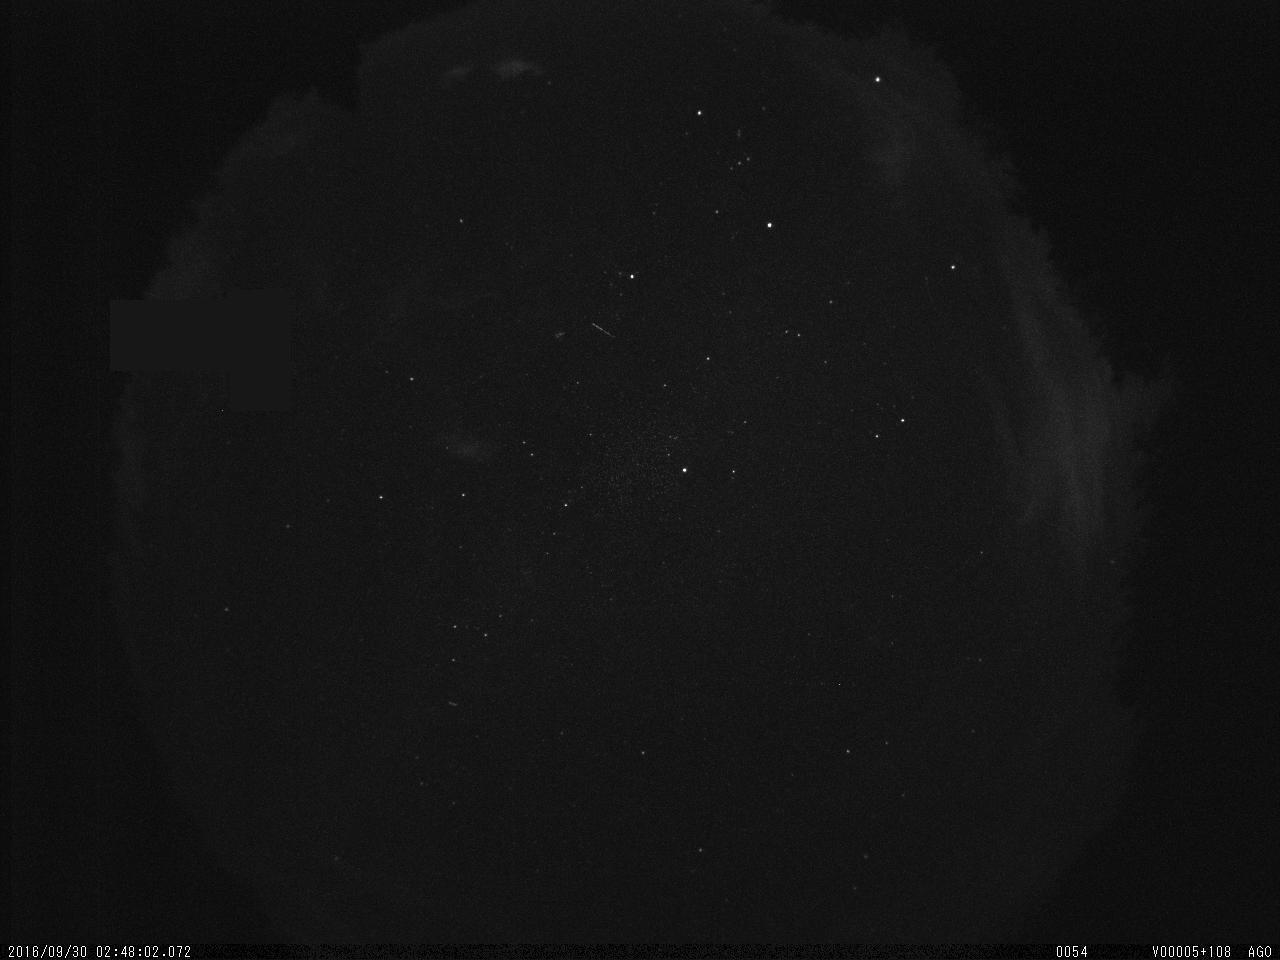meteor: (586, 308, 640, 356)
